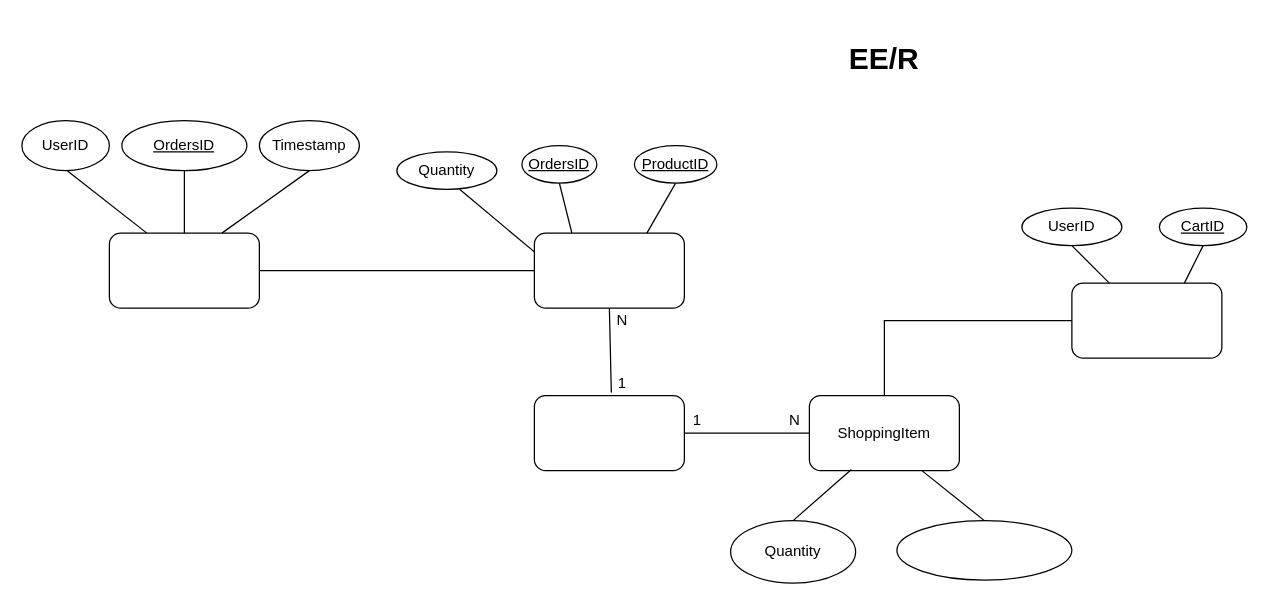
This 1269x605 diagram has some shape labels left out. Here are the shapes that lost their labels. From the top down, the centre of each, then its label:
At point 183,270: "Orders".
At point 608,270: "Order".
At point 1146,320: "Cart".
At point 608,432: "Product".
At point 984,549: "CartID+ProductID".
